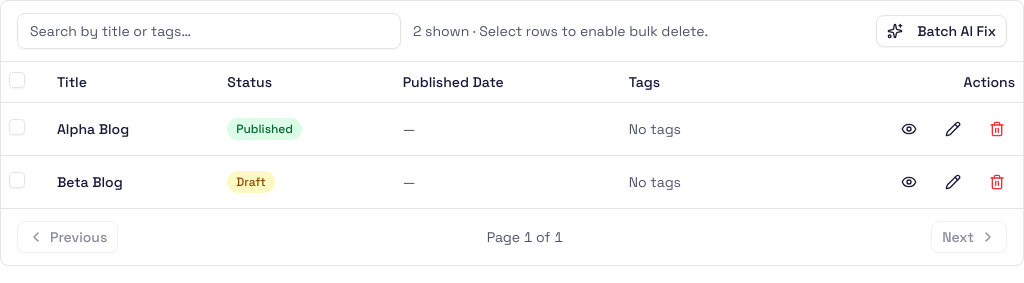
Scenario: admin bulk selection tables › clears blog bulk selection when the search query changes
The image size is (1024, 283).
Click the checkbox named "Select Alpha Blog": (17, 126) [9, 118, 25, 134]
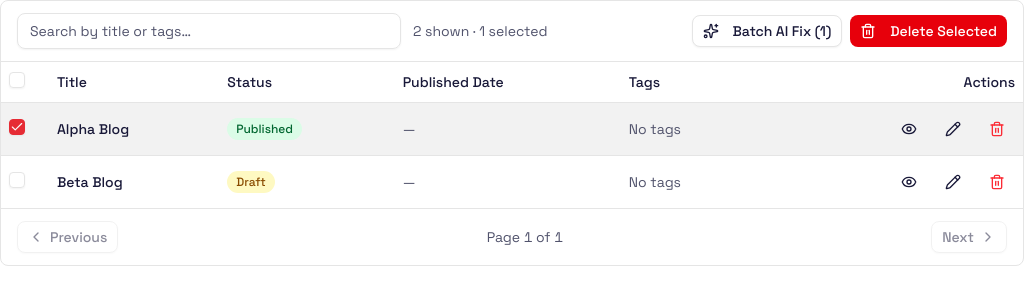
In the field named "Search blog titles": (209, 31) [17, 13, 401, 49], type "alpha"
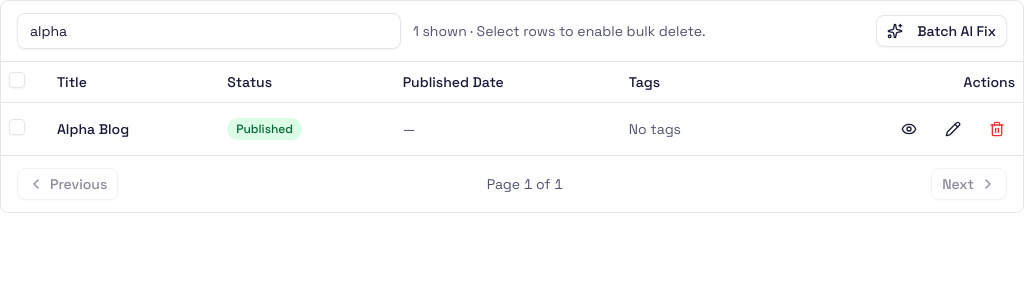
Check: the link "Alpha Blog" is shown, box [57, 120, 129, 138]
Check: the checkbox named "Select Alpha Blog" is not checked, box [9, 118, 25, 134]
Check: the button "Delete Selected" is gone
